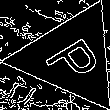P_NE: (36, 28, 105, 87)
